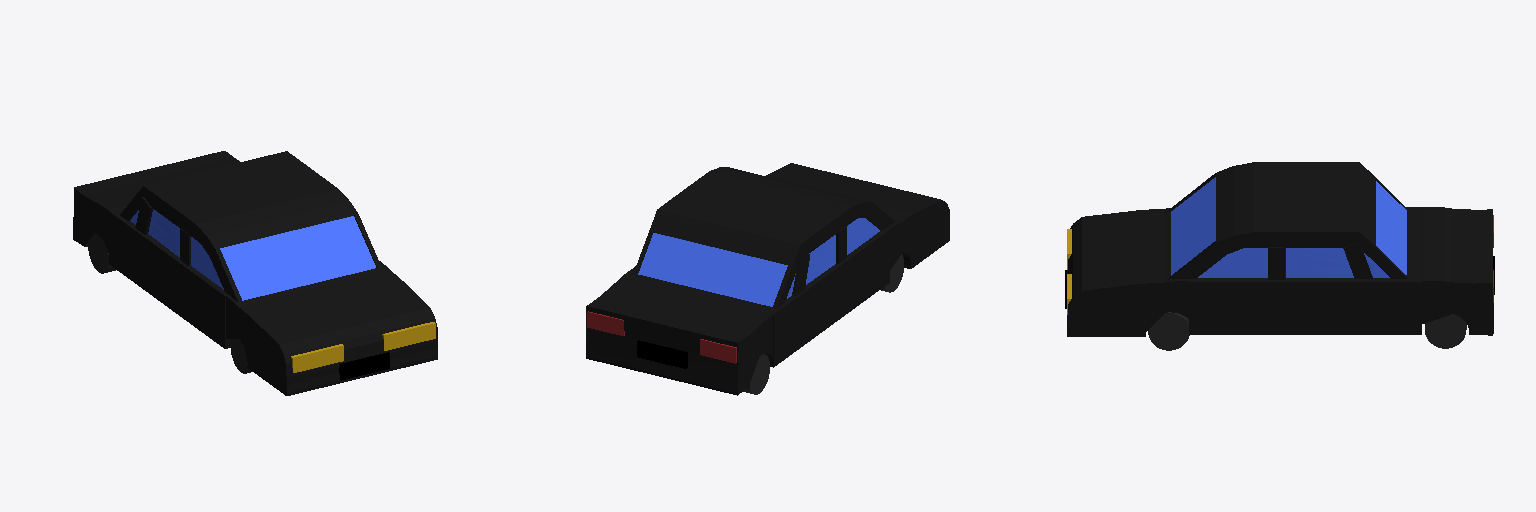
Rendered from Car.obj.
3 renders of one model, left to right at view 1: azimuth 30°, elevation 25°; view 2: azimuth 150°, elevation 25°; view 3: azimuth 270°, elevation 25°, orthographic.
Parts seen in each view (by area): view 1: Cube; view 2: Cube; view 3: Cube.
Boxes of the visible parts, <box> form: Cube: <box>73,151,437,395</box>; Cube: <box>586,163,949,395</box>; Cube: <box>1065,162,1494,350</box>.
Bounding box in the file's own units: 8.47 × 6.2 × 20.62.